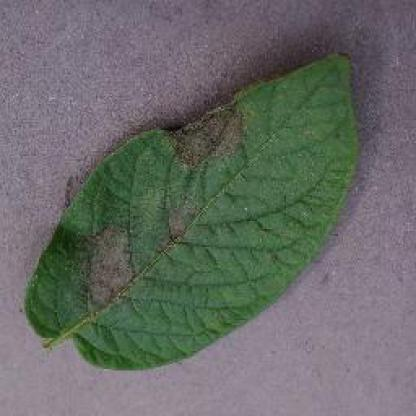bad leaf: (26, 75, 373, 380)
